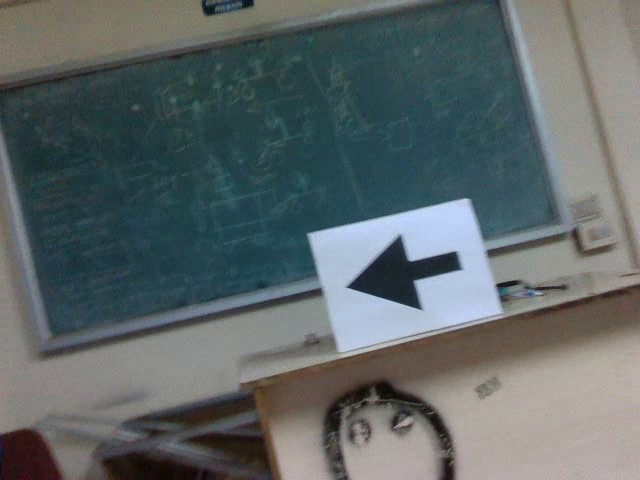Left: (340, 231, 465, 317)
